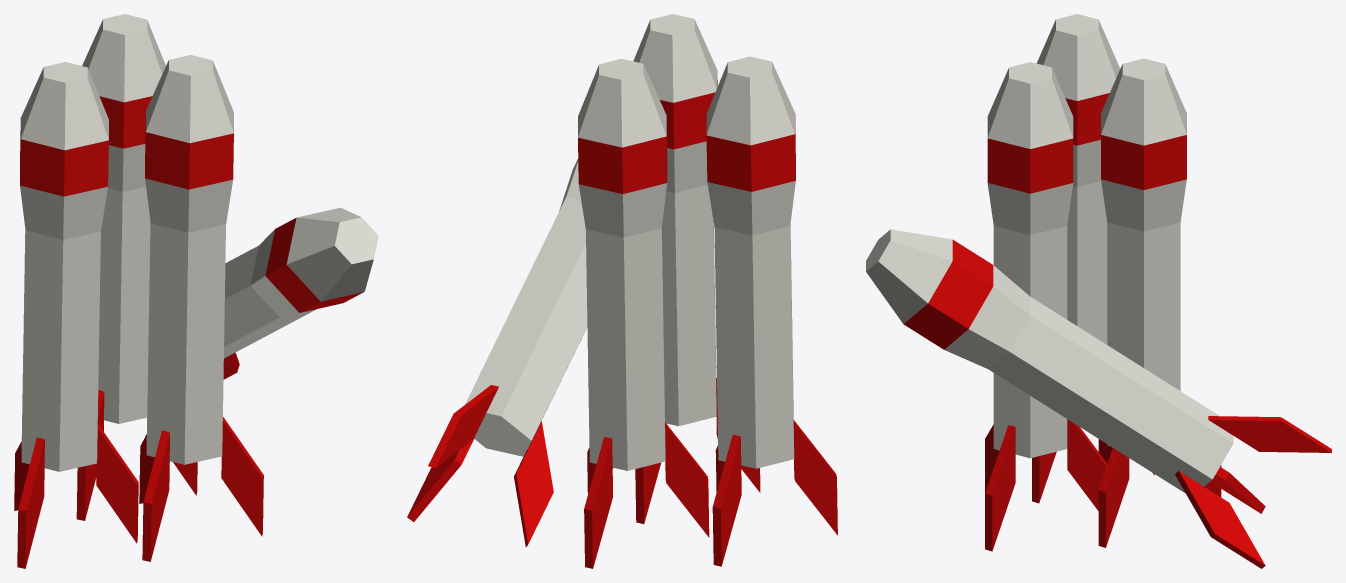
The model's file is missilePickUp.fbx.
3 renders of one model, left to right at view 1: azimuth 30°, elevation 25°; view 2: azimuth 150°, elevation 25°; view 3: azimuth 270°, elevation 25°, orthographic. The views are drawn at different scales.
Parts seen in each view (by area): view 1: missilePickUp; view 2: missilePickUp; view 3: missilePickUp.
Part boxes in pixels (x1,y1,x2,y2): missilePickUp: [14, 14, 378, 568]; missilePickUp: [407, 14, 837, 568]; missilePickUp: [866, 14, 1331, 568].
Size of the model in its own units: 7.1 by 10.12 by 9.41.
